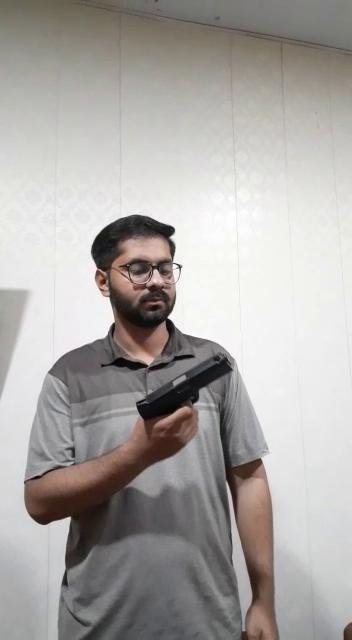criminal: (21, 210, 285, 640)
weapon: (132, 349, 237, 431)
